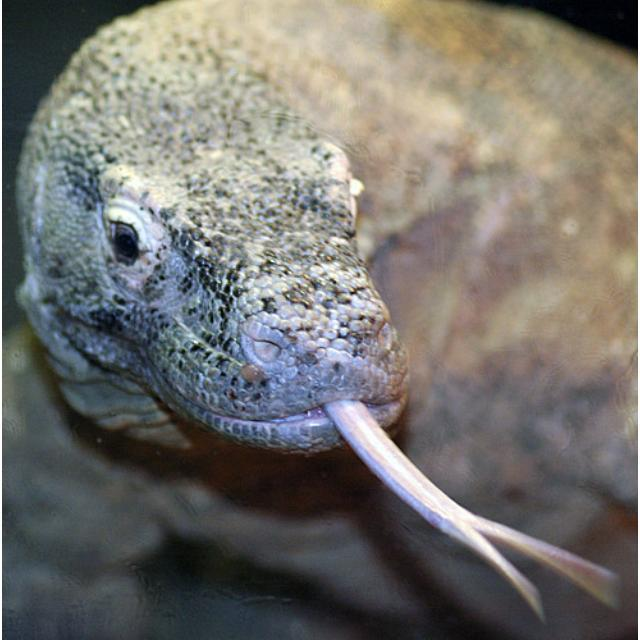KomodoDragon: (16, 0, 635, 636)
